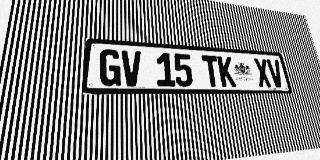1: (155, 52, 176, 86)
5: (173, 53, 194, 87)
G: (99, 49, 121, 86)
K: (217, 56, 237, 87)
T: (201, 55, 221, 87)
V: (121, 50, 142, 86), (266, 59, 285, 87)
X: (253, 58, 272, 87)
